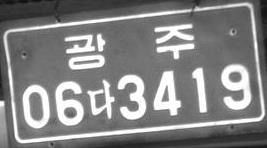0: (21, 83, 51, 128)
1: (185, 66, 214, 113)
3: (116, 73, 148, 121)
4: (152, 70, 182, 116)
6: (54, 80, 85, 127)
9: (220, 62, 252, 110)
광주_D: (63, 22, 195, 71)
다: (86, 79, 115, 120)
